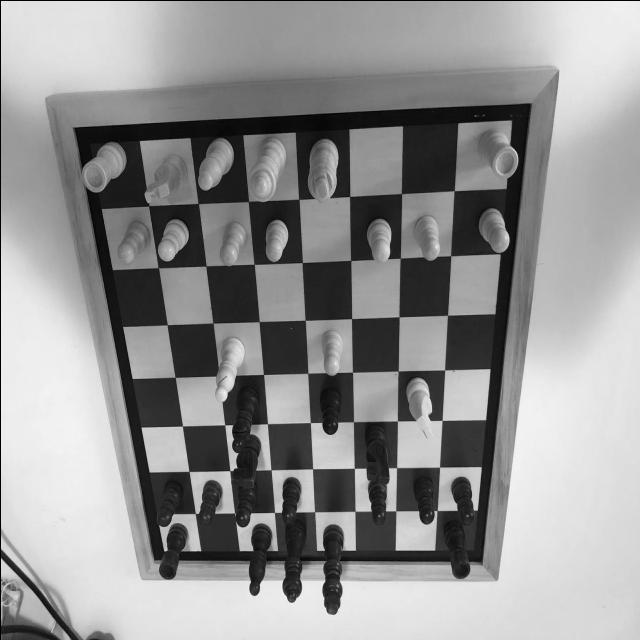chess-table-corners: (521, 92, 541, 114), (64, 119, 82, 141), (144, 551, 162, 572), (472, 552, 487, 568)
